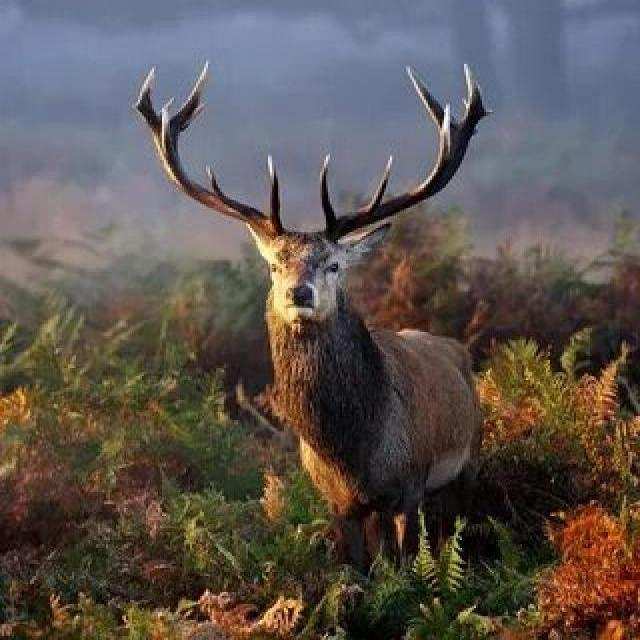deer: (168, 81, 510, 567)
